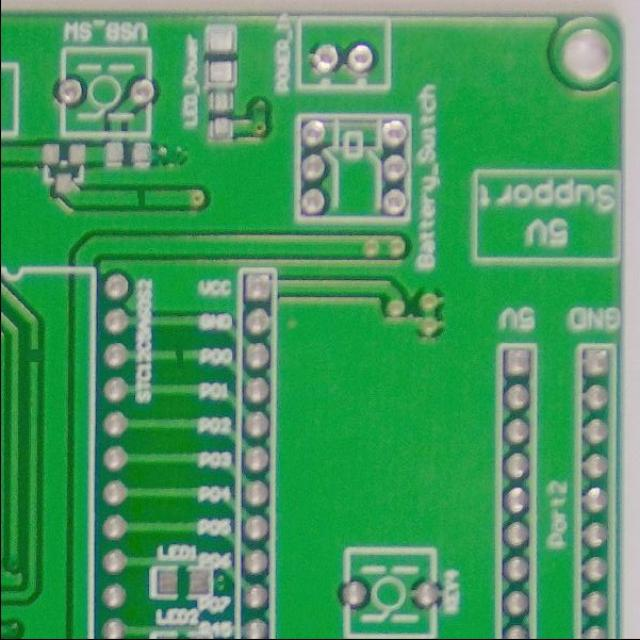Open_Circuit: (125, 178, 156, 215), (164, 338, 195, 371), (20, 338, 45, 372)
